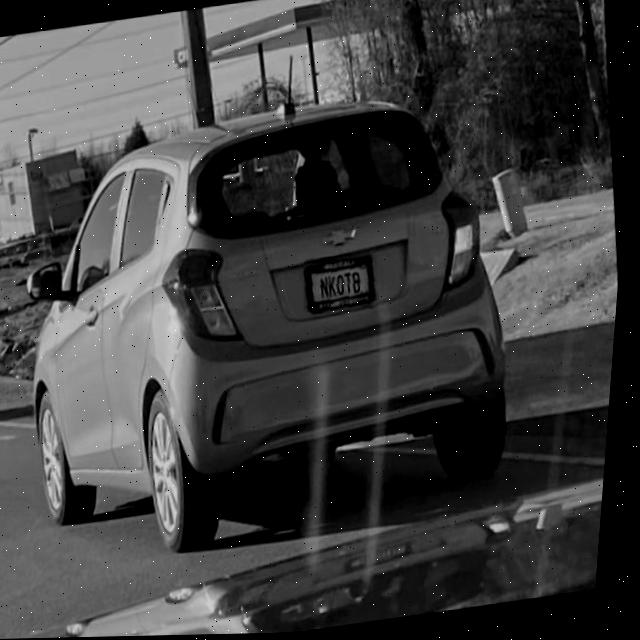LicensePlate: (309, 257, 381, 313)
